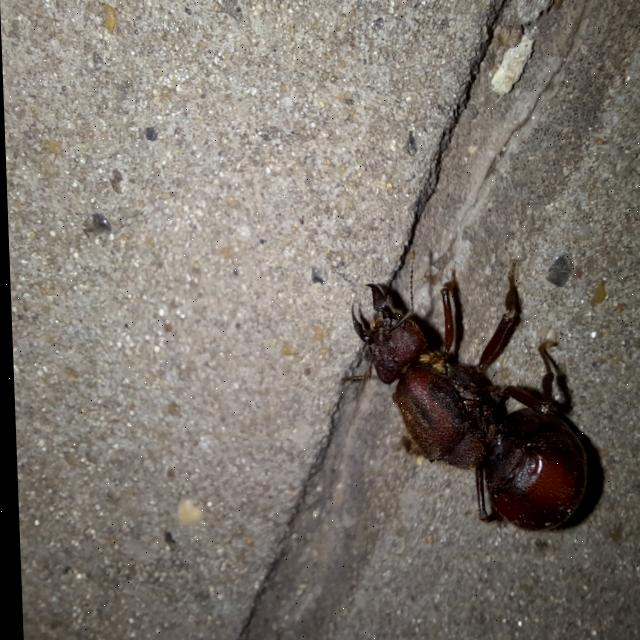Alive-Female-Dealate: (334, 250, 586, 533)
